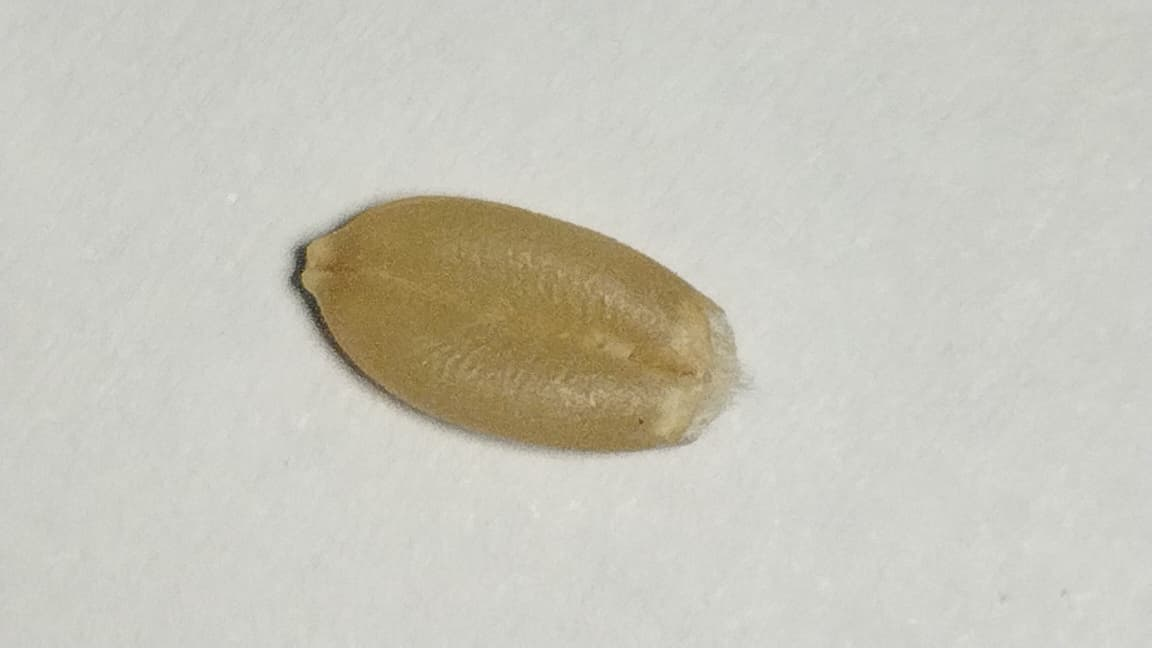healthy: (301, 196, 737, 451)
